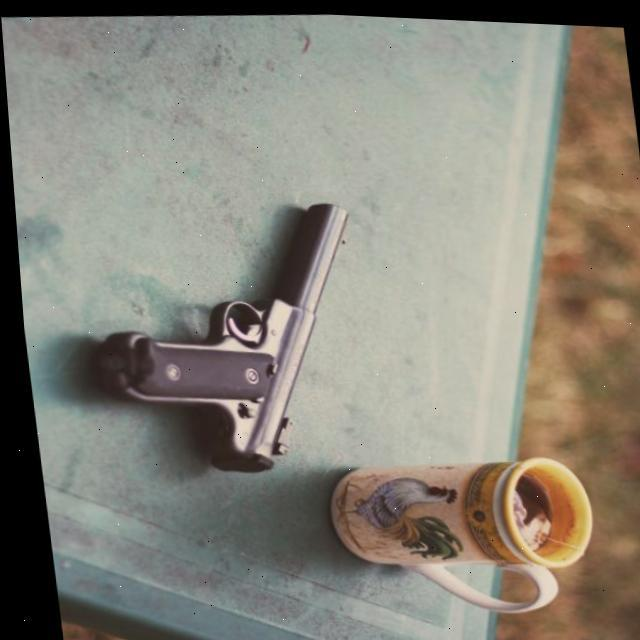gun: (77, 191, 379, 483)
